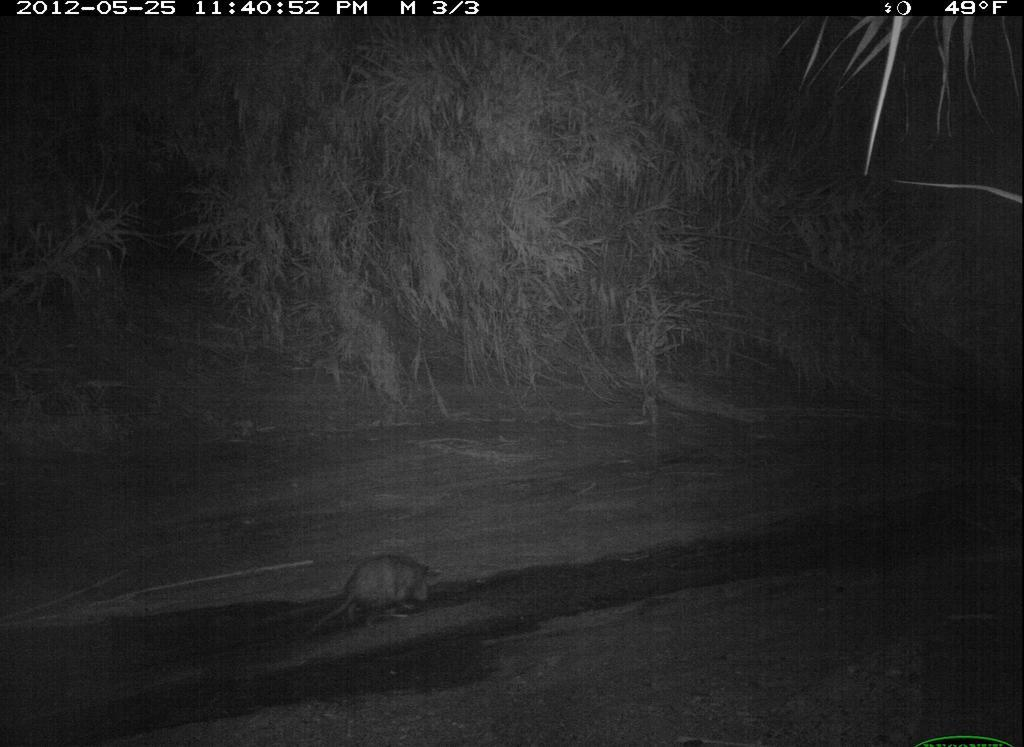opossum: (305, 552, 437, 644)
